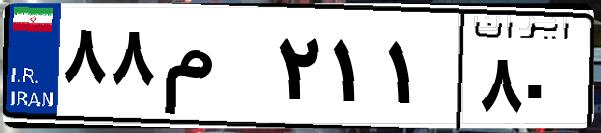0: (525, 38, 570, 115)
1: (385, 28, 445, 110), (330, 28, 385, 110)
2: (270, 28, 330, 110)
8: (57, 26, 110, 100), (475, 38, 525, 113), (110, 28, 158, 98)
م: (158, 20, 270, 120)
